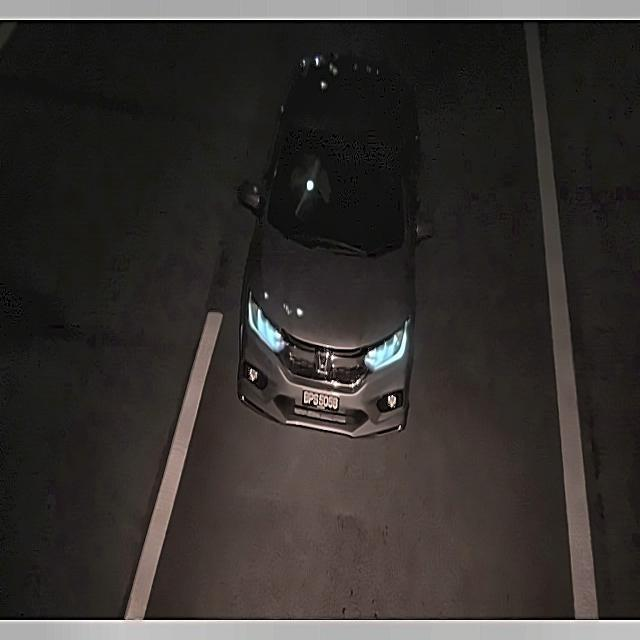car: (298, 385, 342, 412)
